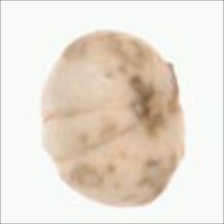L5: (39, 102, 137, 164), (129, 61, 185, 135)
L6: (35, 28, 187, 211)
